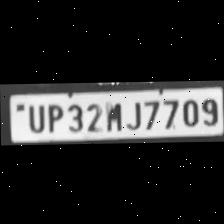0: (177, 95, 199, 126)
2: (82, 99, 102, 130)
3: (64, 100, 82, 131)
7: (158, 95, 178, 127), (140, 97, 160, 128)
9: (198, 94, 220, 125)
J: (123, 97, 141, 128)
M: (102, 98, 122, 130)
P: (44, 100, 64, 132)
U: (22, 100, 44, 130)
